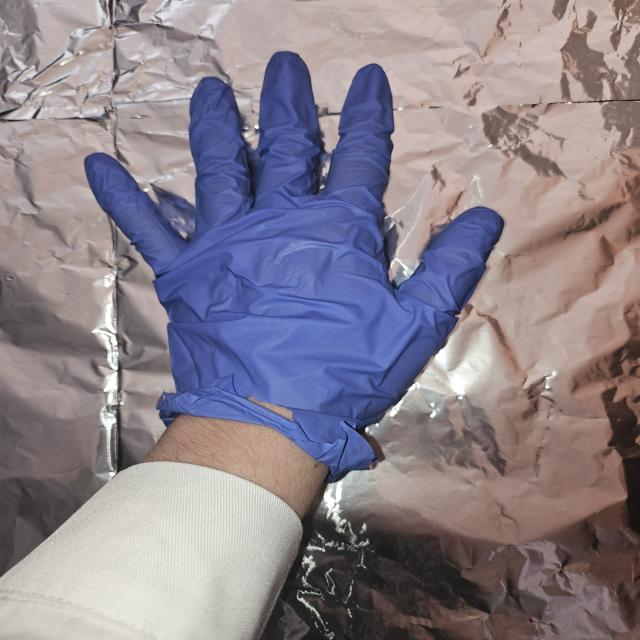gloves_damaged: (83, 50, 504, 483)
